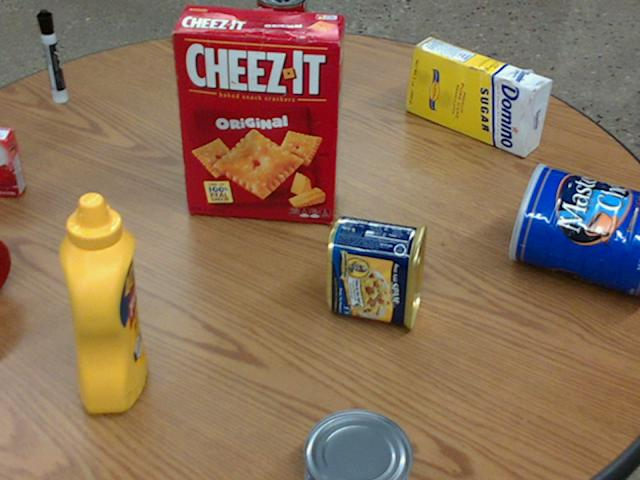cracker_box: (173, 6, 345, 219)
gelatin_box: (0, 128, 28, 196)
large_marker: (38, 11, 67, 102)
master_chef_can: (508, 163, 639, 297)
mug: (0, 236, 13, 291)
mustard_bottle: (59, 192, 147, 411)
potted_meat_can: (326, 215, 426, 329)
sugar_box: (406, 36, 553, 156)
tomato_soup_can: (257, 0, 306, 73)
tuna_fish_can: (301, 409, 410, 479)
